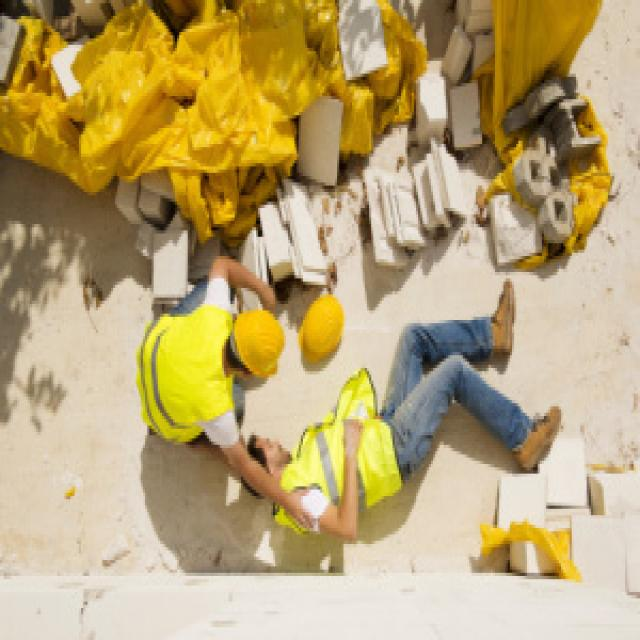Reflective-Jacket: (268, 387, 409, 538), (128, 301, 239, 448)
Safety-Helmet: (228, 301, 290, 394), (292, 285, 354, 374)
